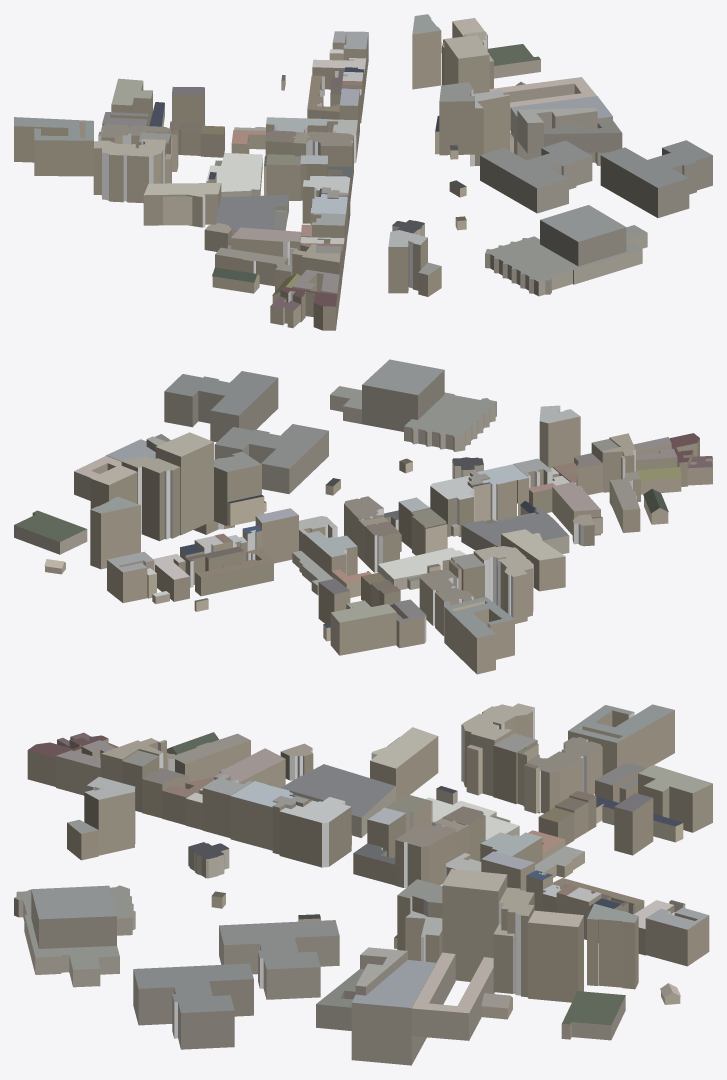
3 renders of one model, top to bottom at view 1: azimuth 30°, elevation 25°; view 2: azimuth 150°, elevation 25°; view 3: azimuth 270°, elevation 25°, orthographic. The views are drawn at different scales.
Visible parts, largest first — view 1: tuile; view 2: tuile; view 3: tuile.
Part boxes in pixels (box(x1,y1,x2,y2)): tuile: box(14, 14, 712, 330); tuile: box(14, 359, 712, 674); tuile: box(14, 703, 712, 1065).
Size of the model in its own units: 282 by 55.02 by 281.
